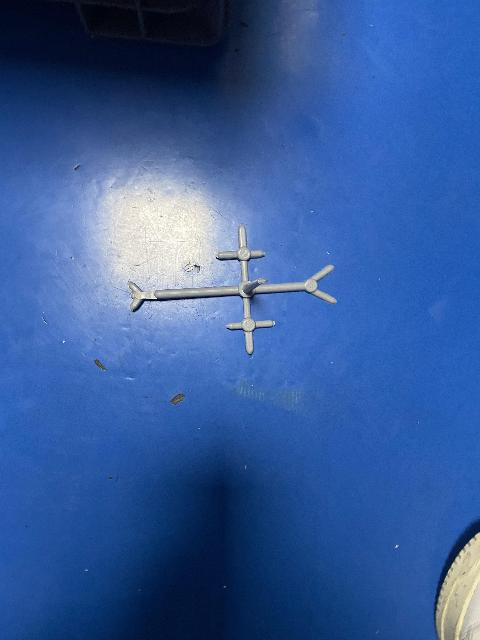Plastik: (125, 229, 351, 354)
